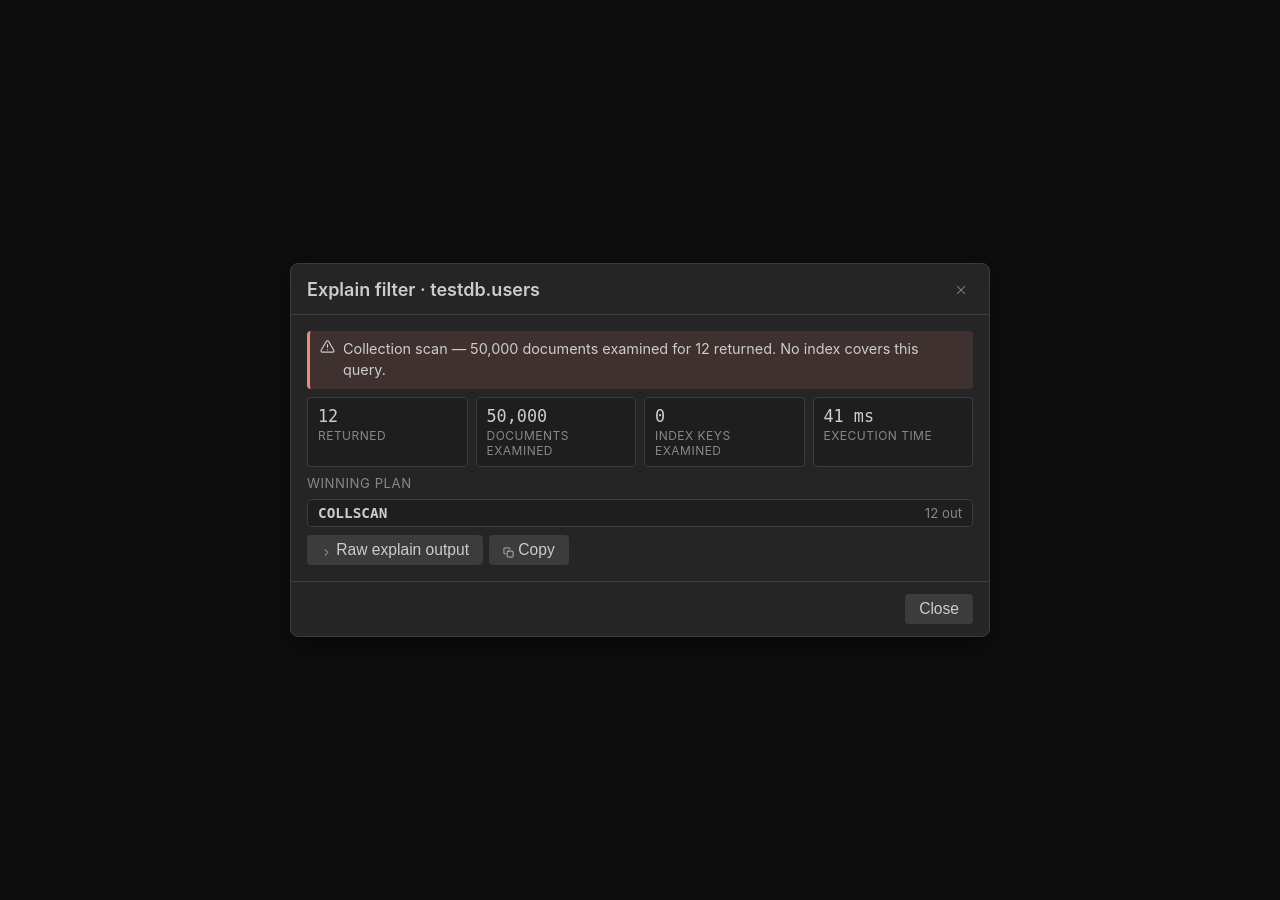
Test case: ExplainModal › keeps the raw output collapsed until asked, then shows it
Expected: the text "Collection scan" is shown, [343,340,919,378]
Click the button "Raw explain output" at (395, 550), box [307,535,483,565]
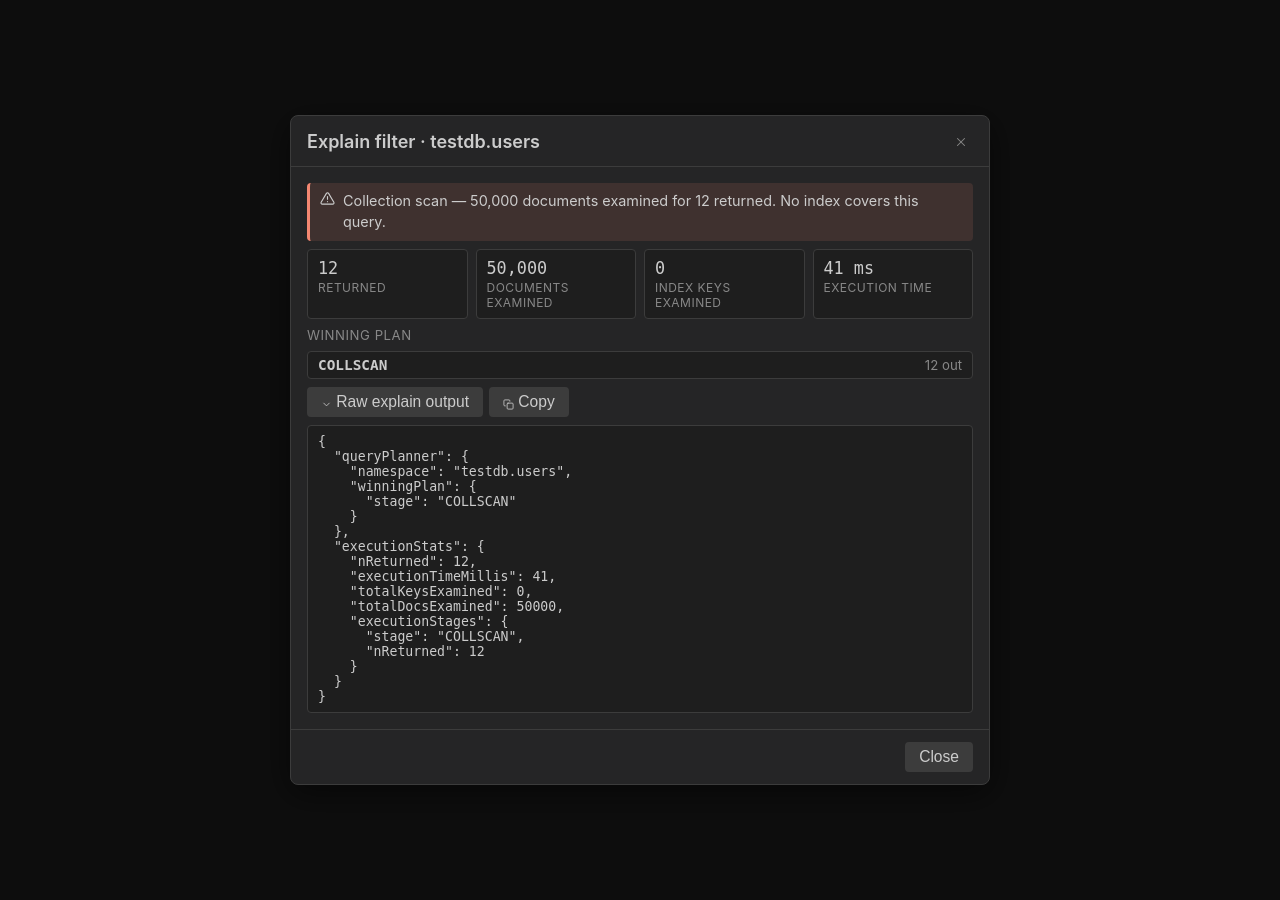
Expected: the text with class "explain-raw" shows "totalDocsExamined", [318,434,572,704]
